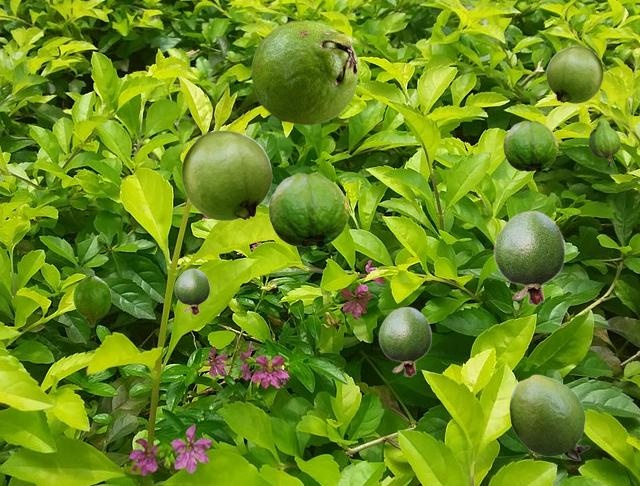guava: (251, 20, 357, 124), (181, 130, 271, 220), (493, 210, 565, 305), (509, 374, 589, 459), (268, 172, 348, 247), (378, 306, 431, 376), (546, 46, 602, 102), (503, 120, 557, 171), (73, 275, 110, 326), (174, 268, 209, 314), (588, 119, 619, 165)
